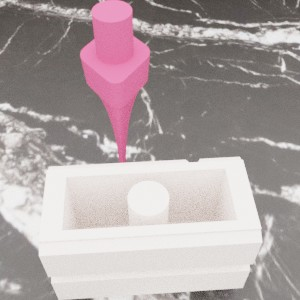lego: (38, 156, 262, 299), (80, 0, 150, 225)
